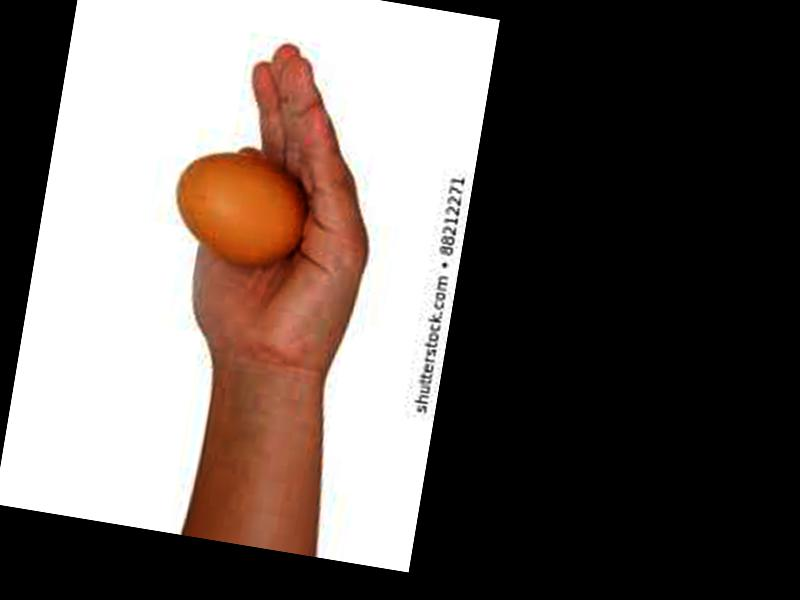Eggs: (166, 145, 316, 273)
